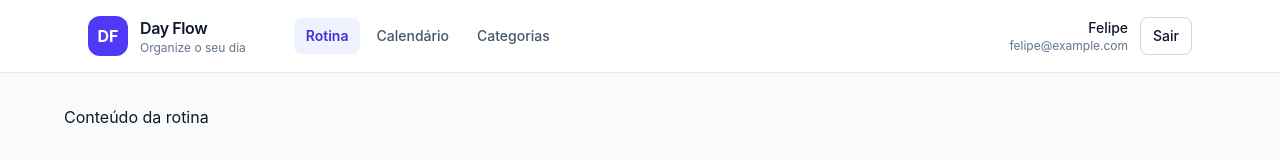
AppLayout › navega entre as áreas protegidas e destaca a rota ativa
What coordinates should you click on to do the following:
click the link "Calendário"
I would click on:
 (413, 36)
Its box is [376,27,449,44].
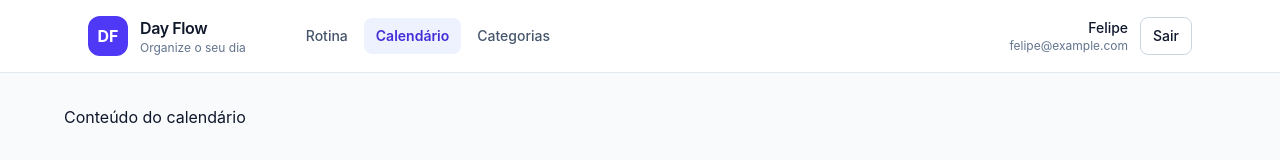
Check: the text "Conteúdo do calendário" is shown, box [64,107,246,127]
